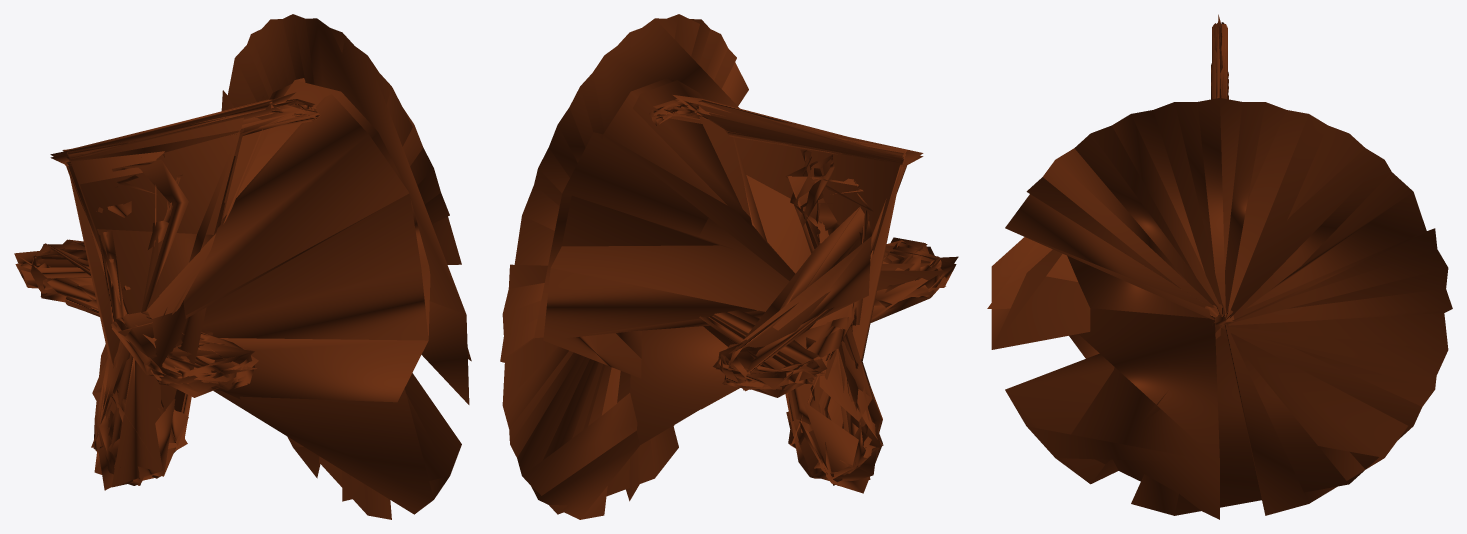
3 renders of one model, left to right at view 1: azimuth 30°, elevation 25°; view 2: azimuth 150°, elevation 25°; view 3: azimuth 270°, elevation 25°, orthographic. The views are drawn at different scales.
Parts seen in each view (by area): view 1: Table_-_LOW_Cylinder; view 2: Table_-_LOW_Cylinder; view 3: Table_-_LOW_Cylinder.
Part boxes in pixels (bbox=[...]): Table_-_LOW_Cylinder: bbox=[14, 14, 471, 519]; Table_-_LOW_Cylinder: bbox=[500, 14, 958, 519]; Table_-_LOW_Cylinder: bbox=[987, 14, 1452, 519].
Bounding box in the file's own units: 10.91 × 15.33 × 15.33.
